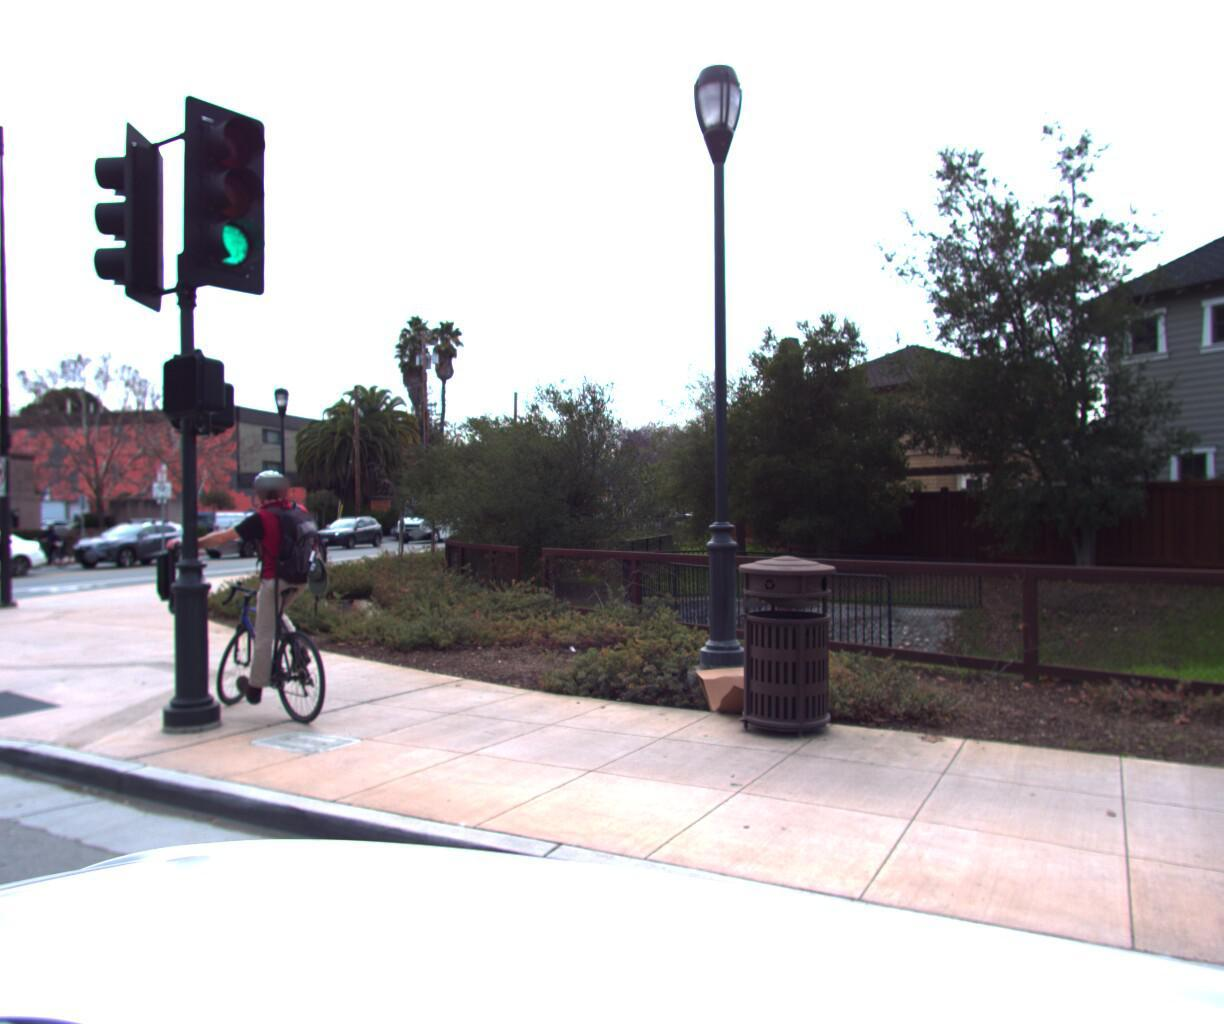bicycle: (177, 460, 370, 761), (6, 518, 80, 570)
car: (64, 518, 198, 570), (196, 513, 306, 560), (306, 516, 385, 549), (198, 508, 285, 539)
truck: (389, 491, 483, 542)
